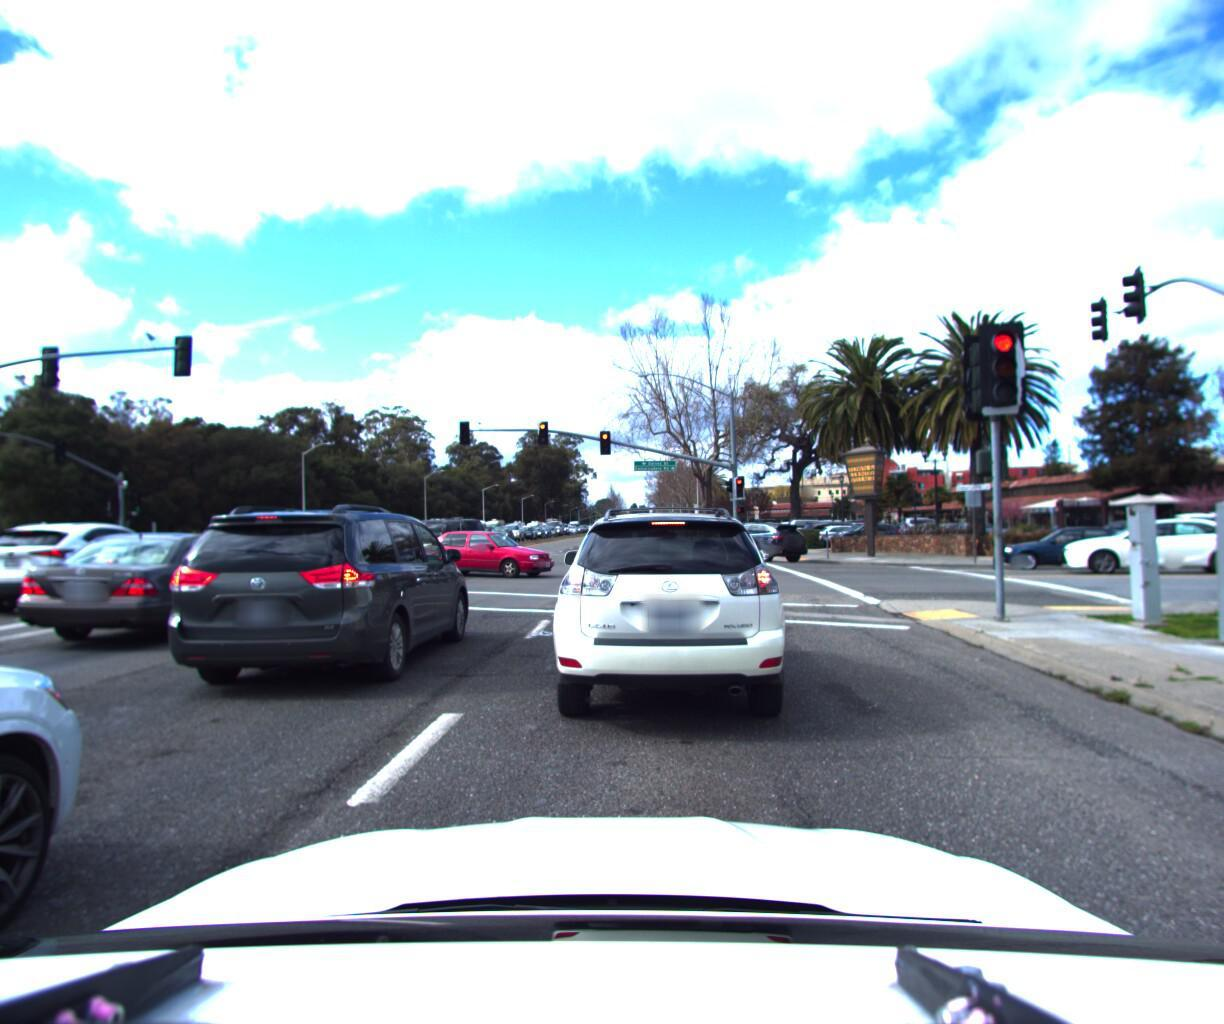car: (536, 491, 803, 745), (155, 498, 485, 702), (7, 529, 307, 659), (1052, 514, 1224, 575), (989, 524, 1164, 574), (400, 526, 570, 577), (364, 516, 496, 565), (710, 525, 814, 565), (833, 520, 921, 552), (1160, 505, 1224, 549), (816, 523, 899, 550), (801, 519, 880, 547), (503, 522, 532, 543)
other_vehicle: (330, 513, 399, 552)
